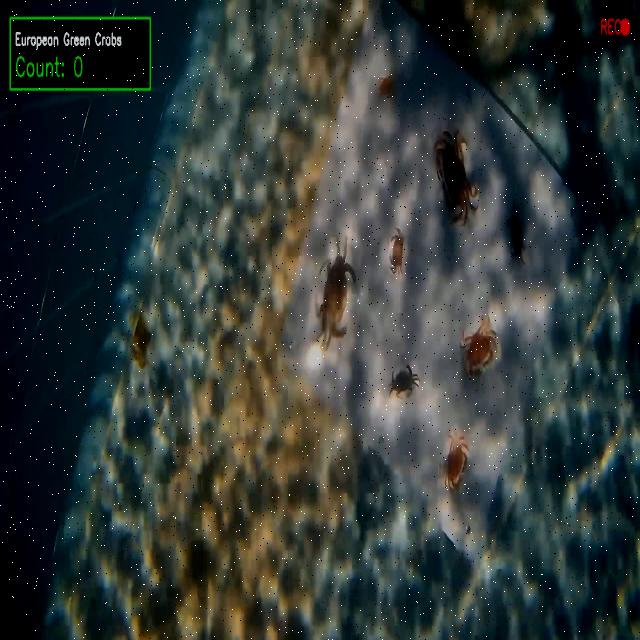European_Green_Crab: (311, 234, 356, 358), (385, 358, 420, 409), (503, 207, 529, 270)
